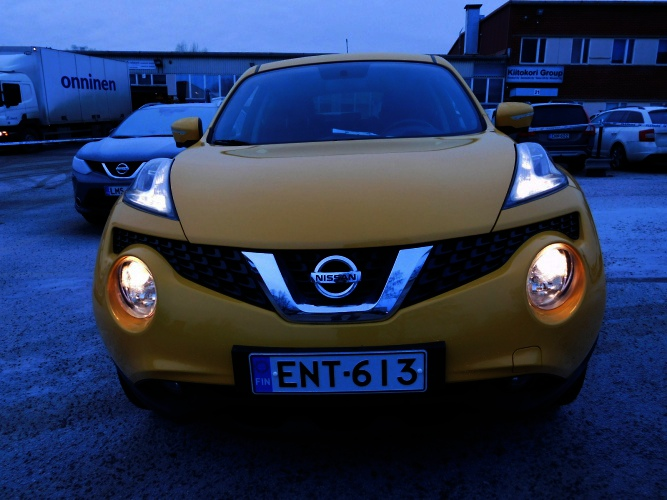license: (248, 348, 425, 393)
